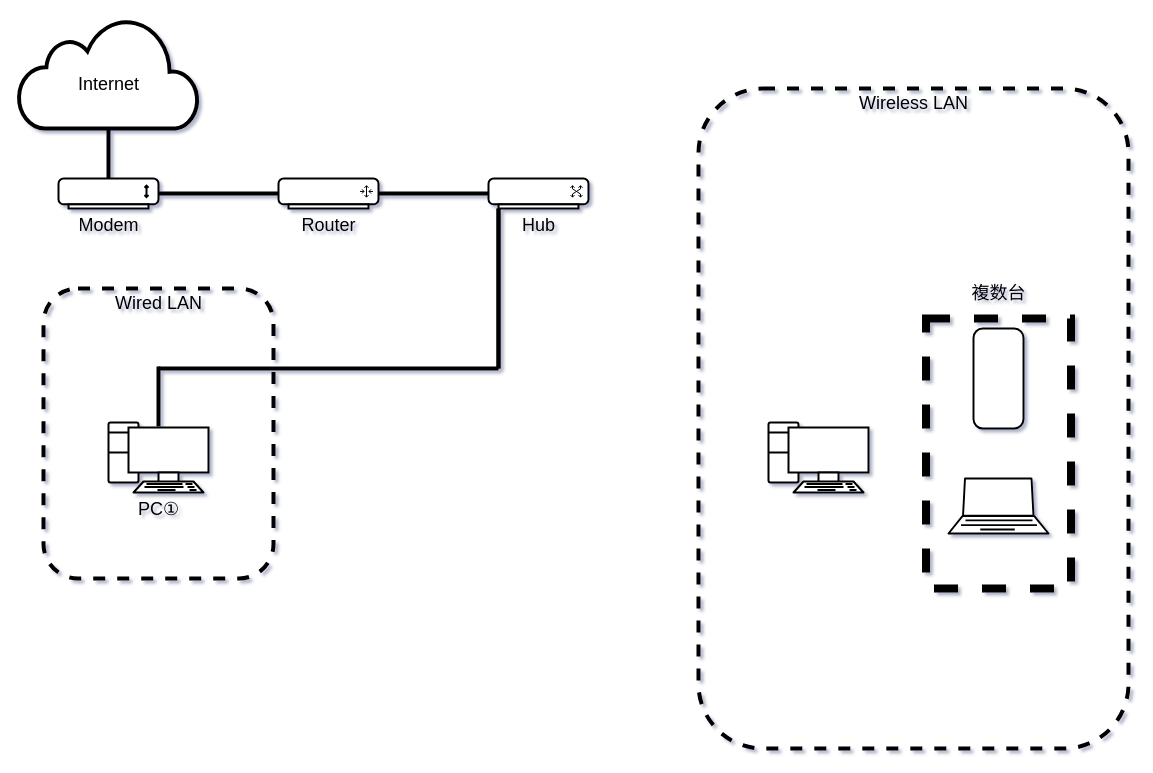
This 1153x773 diagram has some shape labels left out. Here are the shapes that lost their labels. From the top down, the box of each, then its label:
(972, 327, 1024, 429): Smart Phone
(767, 421, 869, 493): PC②
(947, 477, 1049, 534): Note PC
